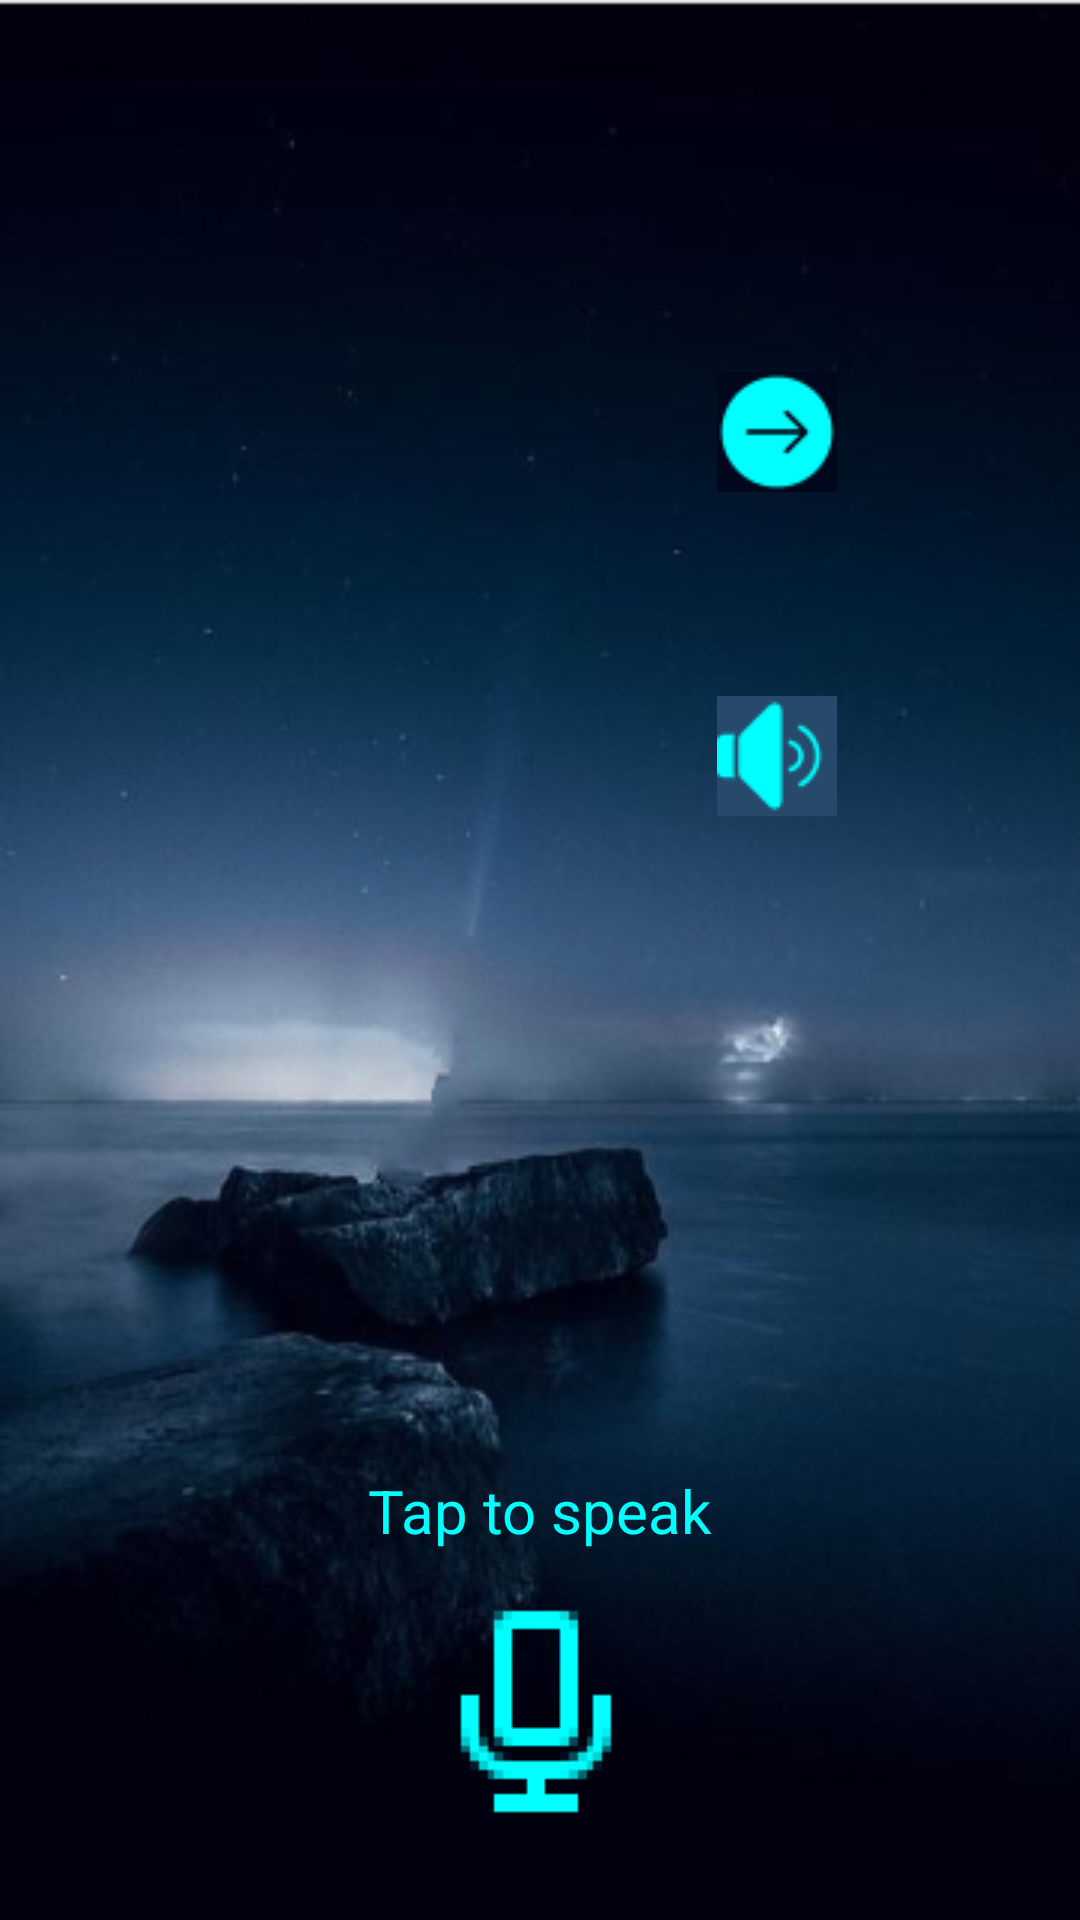

Screen size 1080w x 1920h. Icon name, then its center in pixels as point (x, y):
ex mike: point (508, 1695)
forward: point (777, 432)
speaker: point (777, 756)
